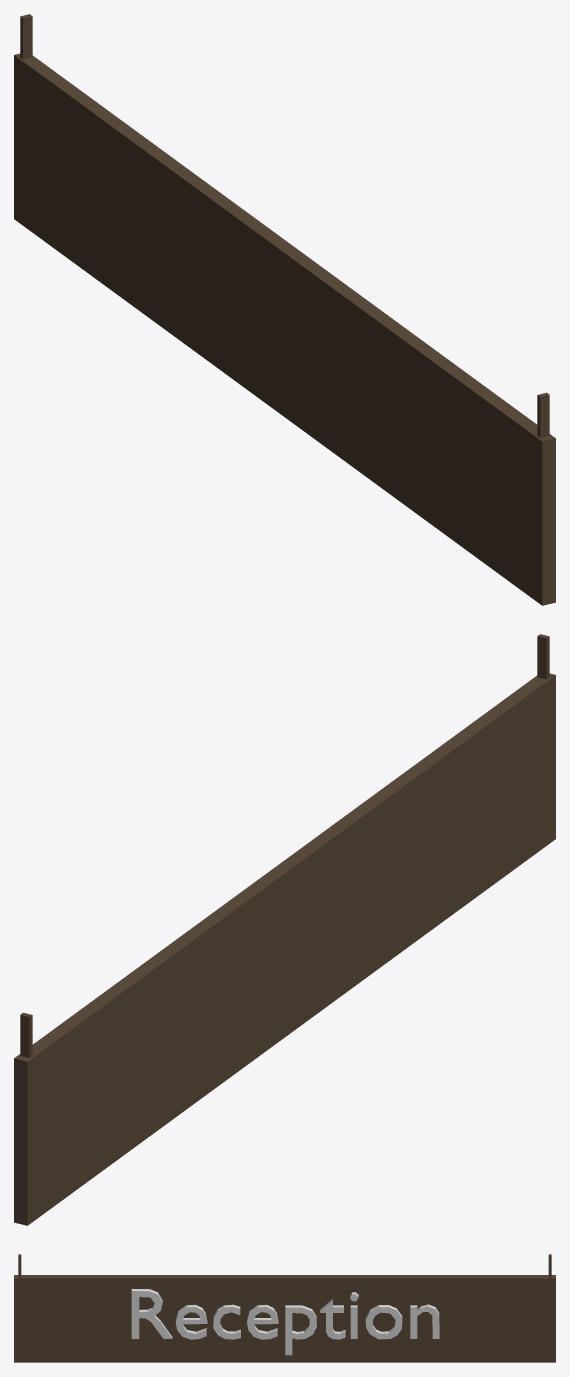
Rendered from SM_receptionSign_01.glb.
3 renders of one model, top to bottom at view 1: azimuth 30°, elevation 25°; view 2: azimuth 150°, elevation 25°; view 3: azimuth 270°, elevation 25°, orthographic. The views are drawn at different scales.
Visible parts, largest first — view 1: SM_receptionSign_01; view 2: SM_receptionSign_01; view 3: SM_receptionSign_01.
Boxes of the visible parts, box(x1,y1,x2,y2) form: SM_receptionSign_01: box(14, 14, 555, 605); SM_receptionSign_01: box(14, 634, 555, 1225); SM_receptionSign_01: box(14, 1254, 555, 1362).
Bounding box in the file's own units: 0.0489 × 0.4286 × 2.
1 material, 1 textured.
